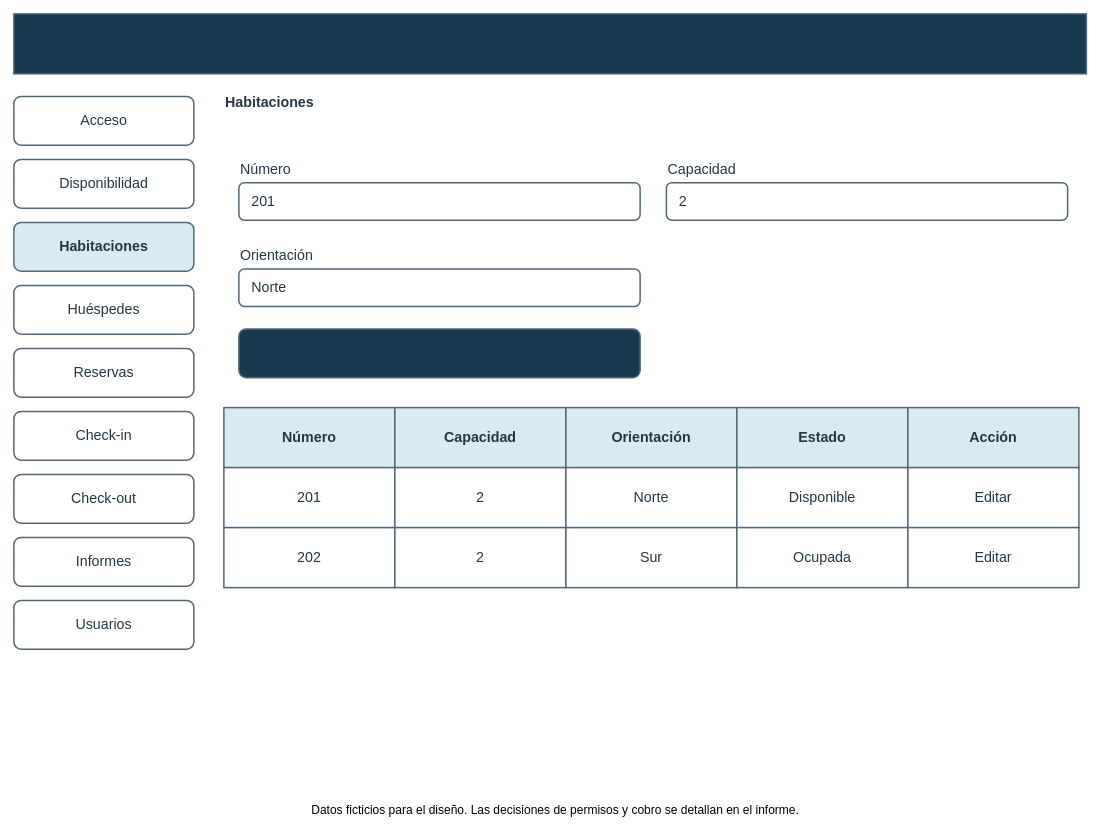
This 1100x836 diagram has some shape labels left out. Each missing label, with the centre of its shape:
"Guardar habitación" goes at [439,353].
"Hotel Duerme Bien · Sistema de pasajeros" goes at [550,43].
